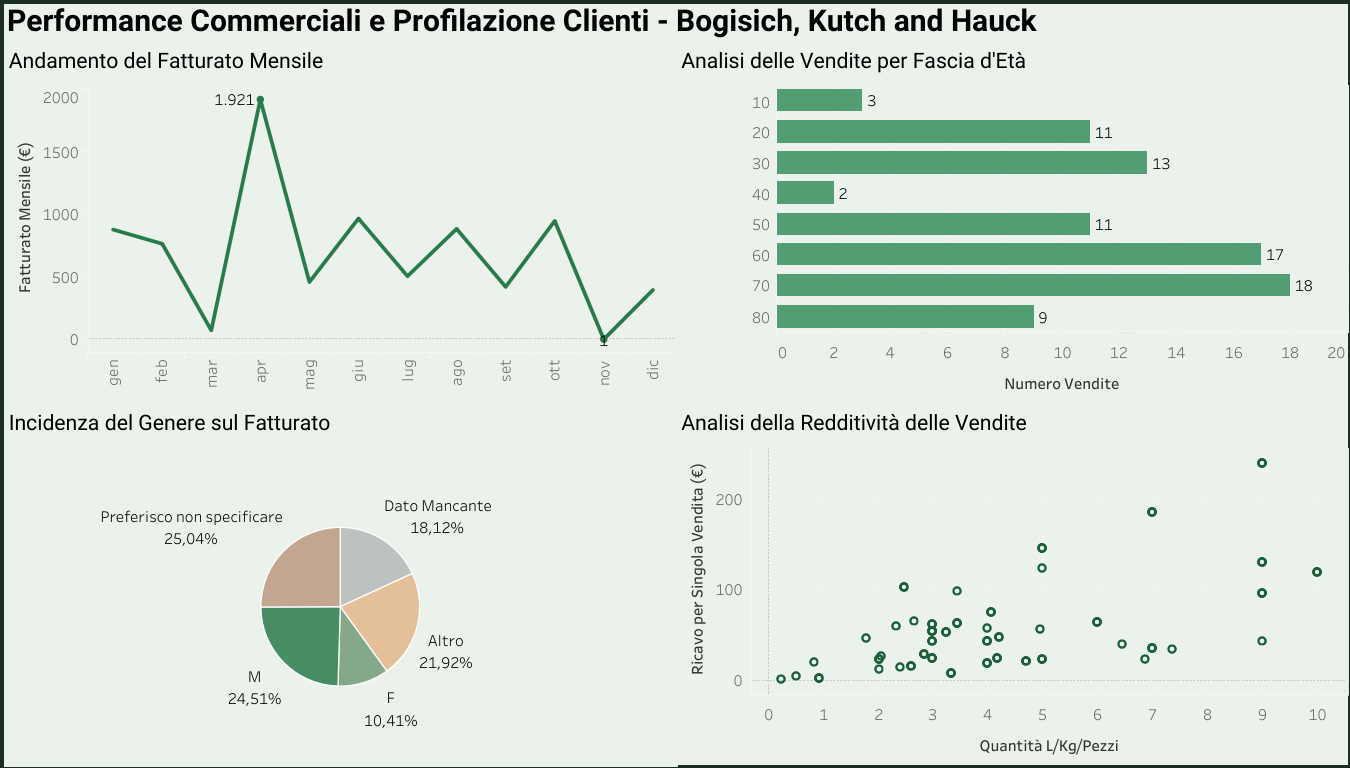

Layout of this report page (visuals, bound fields, positions):
{"tool":"tableau","page":{"name":"Performance Commerciali e Profilazione Clienti - Bogisich, Kutch and Hauck","canvas":[1000,1000],"units":"permille","ordinal":0},"visuals":[{"type":"title","box":[1.8,3.5,996.4,47]},{"type":"worksheet","title":"Andamento del Fatturato Mensile","mark":"Automatic","rows":["prezzo_totale"],"cols":["data_ora"],"box":[1.8,50.5,498.2,472.7]},{"type":"worksheet","title":"Analisi delle Vendite per Fascia d'Età","mark":"Automatic","rows":["Età (contenitore)"],"cols":["id_vendita"],"box":[500,50.5,498.2,472.7]},{"type":"worksheet","title":"Incidenza del Genere sul Fatturato","mark":"Pie","box":[1.8,523.3,498.2,473.2]},{"type":"worksheet","title":"Analisi della Redditività delle Vendite","mark":"Shape","rows":["prezzo_totale"],"cols":["quantita"],"box":[500,523.3,498.2,473.2]}]}

Visuals, with their boxes on the dashboard's canvas, which has no fixed pixel size, in thousandths of its width and height (x1, y1, x2, y2). These are canvas units, not pixel positions in the 1350x768 screenshot, which may show the page scaled, cropped or inside an application window:
title: <region>2, 4, 998, 50</region>
"Andamento del Fatturato Mensile" worksheet: <region>2, 50, 500, 523</region>
"Analisi delle Vendite per Fascia d'Età" worksheet: <region>500, 50, 998, 523</region>
"Incidenza del Genere sul Fatturato" worksheet (Pie marks): <region>2, 523, 500, 996</region>
"Analisi della Redditività delle Vendite" worksheet (Shape marks): <region>500, 523, 998, 996</region>
